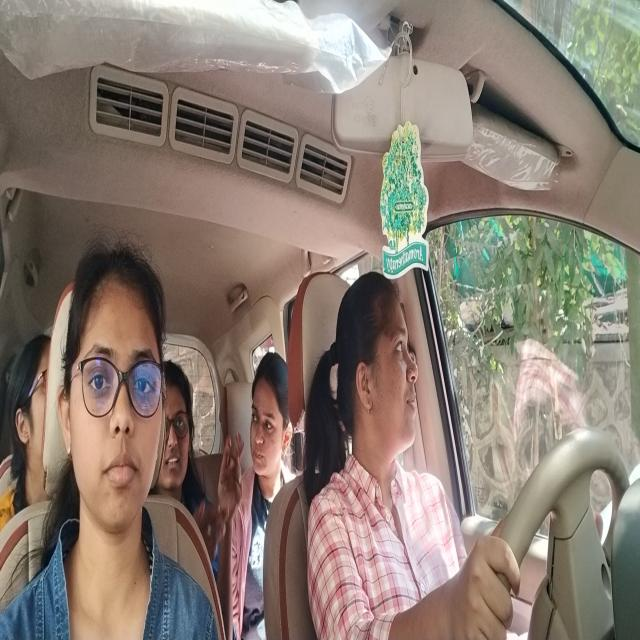person: (60, 234, 168, 537), (331, 272, 418, 472), (10, 331, 54, 505), (249, 348, 294, 503), (164, 350, 197, 506)
